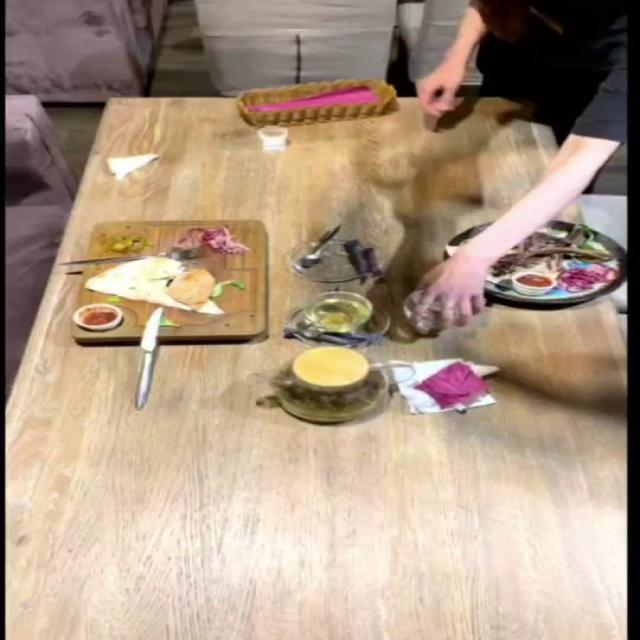meat: (424, 222, 640, 298)
tea: (237, 348, 443, 431)
